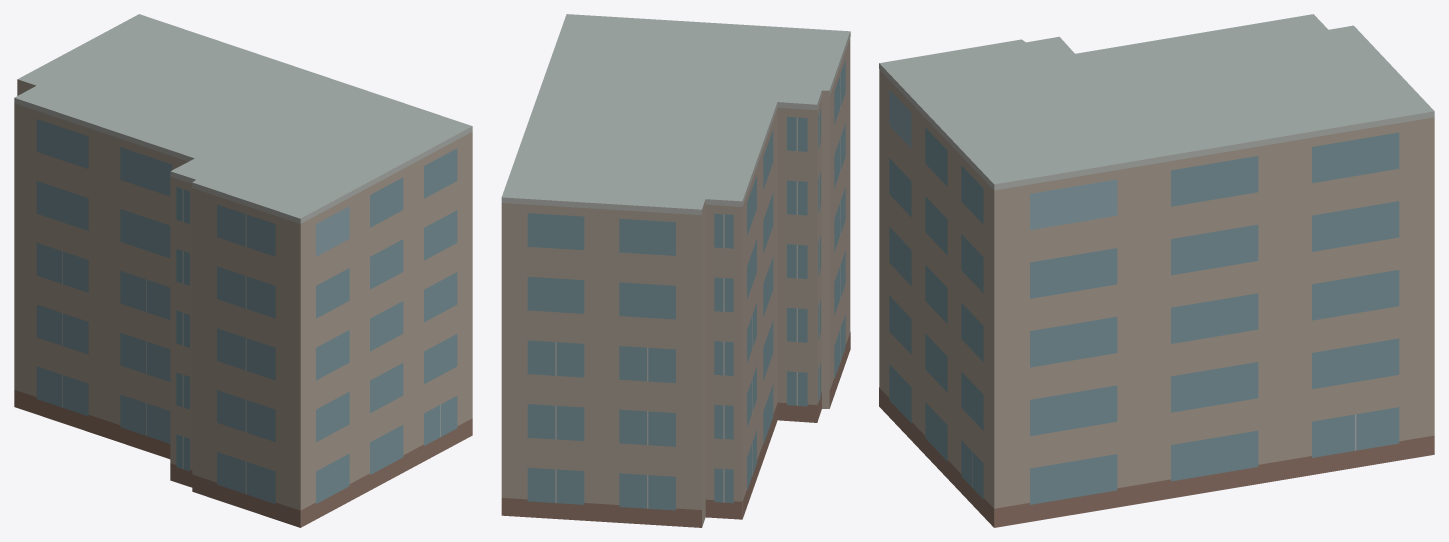
File: survey-upis-32689344.glb
3 views of the same model, side by side, from view 1: azimuth 30°, elevation 25°; view 2: azimuth 150°, elevation 25°; view 3: azimuth 270°, elevation 25° (orthographic). The views are drawn at different scales.
Visible parts, largest first — view 1: survey-upis-32689344.tmp; view 2: survey-upis-32689344.tmp; view 3: survey-upis-32689344.tmp.
Part boxes in pixels (box(x1,y1,x2,y2)): survey-upis-32689344.tmp: box(14, 14, 472, 527); survey-upis-32689344.tmp: box(501, 14, 850, 527); survey-upis-32689344.tmp: box(879, 14, 1434, 527).
Bounding box in the file's own units: 14.97 × 14.05 × 20.61.
